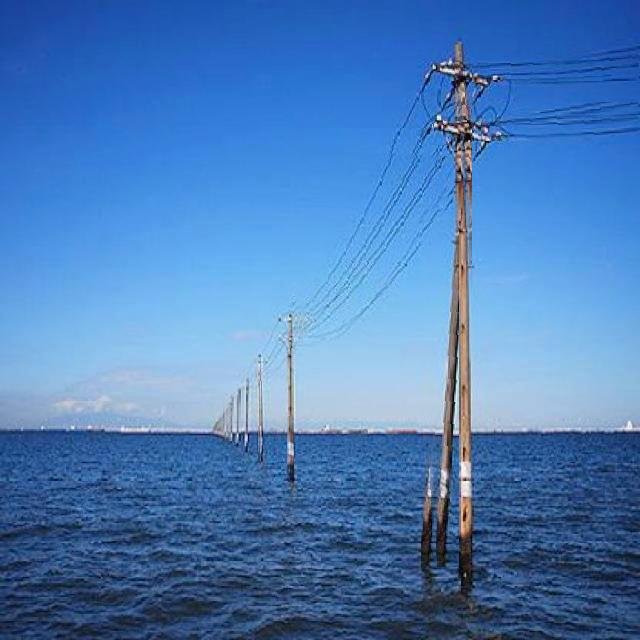crossarm: (433, 63, 490, 86), (435, 119, 490, 141)
pole: (430, 211, 459, 567), (456, 44, 472, 329), (287, 314, 293, 487), (258, 358, 261, 468)
wire: (290, 69, 434, 312), (296, 128, 433, 334), (300, 155, 447, 338), (299, 195, 453, 338), (317, 145, 443, 316), (489, 102, 629, 124), (463, 53, 640, 68), (477, 62, 640, 78), (493, 129, 639, 139), (499, 116, 638, 125), (490, 75, 635, 83), (491, 84, 512, 125), (475, 106, 497, 122), (500, 125, 512, 135)
